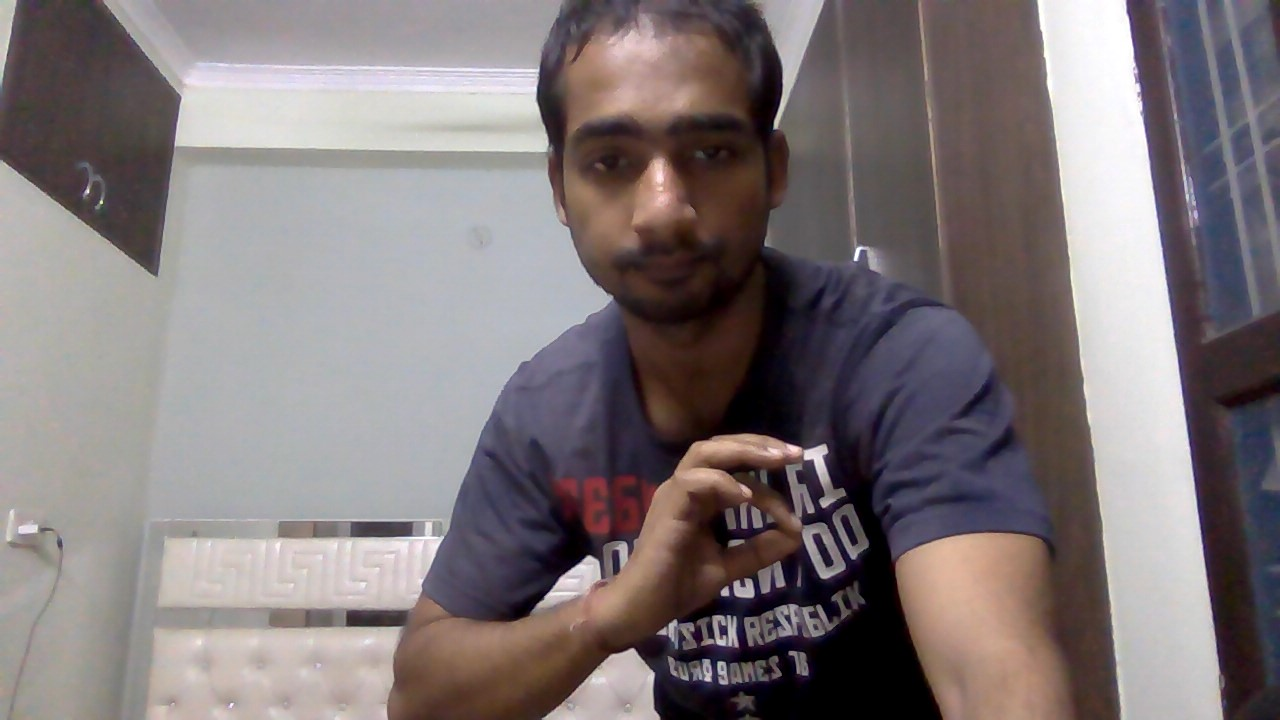Copy: (604, 425, 814, 660)
